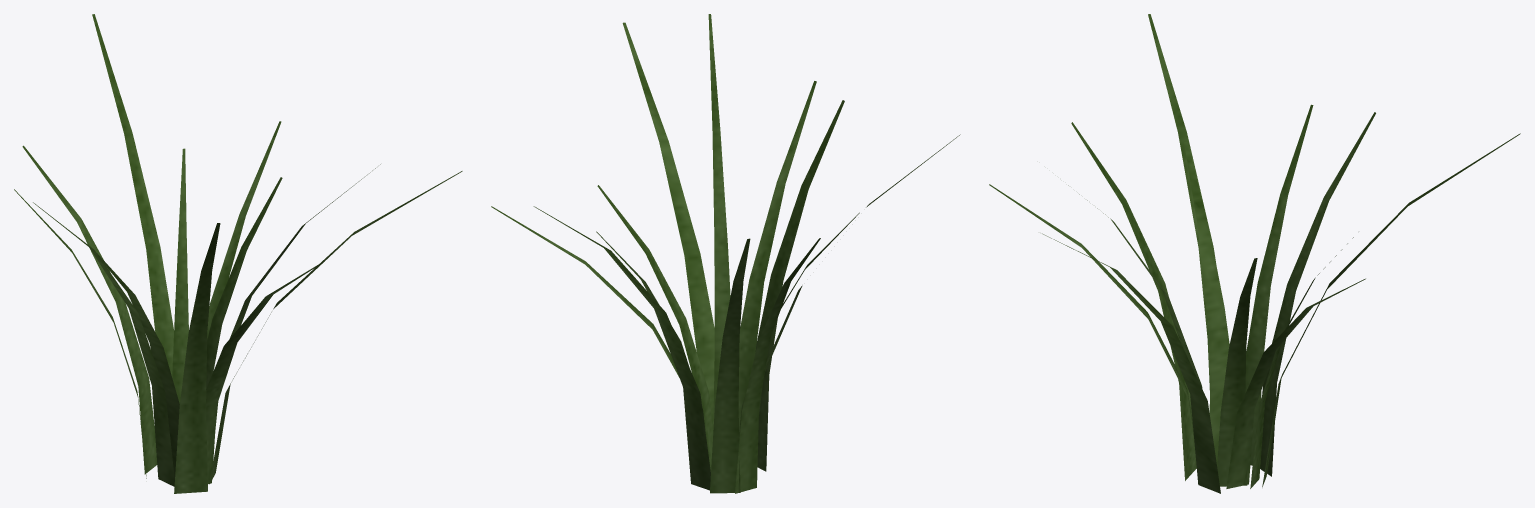
File: grass_tuft_3.glb
The picture shows the model from 3 angles, left to right: view 1: azimuth 30°, elevation 25°; view 2: azimuth 150°, elevation 25°; view 3: azimuth 270°, elevation 25°; orthographic projection. The views are drawn at different scales.
Visible parts, largest first — view 1: grass_tuft_3; view 2: grass_tuft_3; view 3: grass_tuft_3.
Part boxes in pixels (x1,y1,x2,y2): grass_tuft_3: [14, 14, 462, 493]; grass_tuft_3: [491, 14, 960, 493]; grass_tuft_3: [989, 14, 1520, 493].
Size of the model in its own units: 0.8902 by 0.7966 by 1.03.
1 material, 1 textured.
